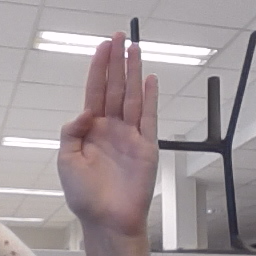B: (55, 30, 161, 226)
